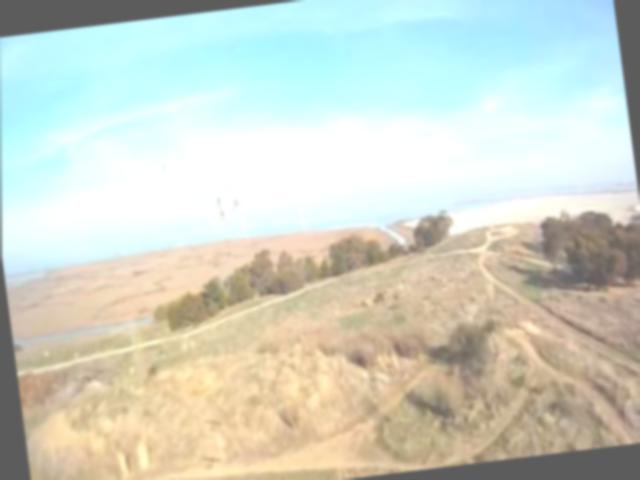uav: (154, 146, 314, 244)
